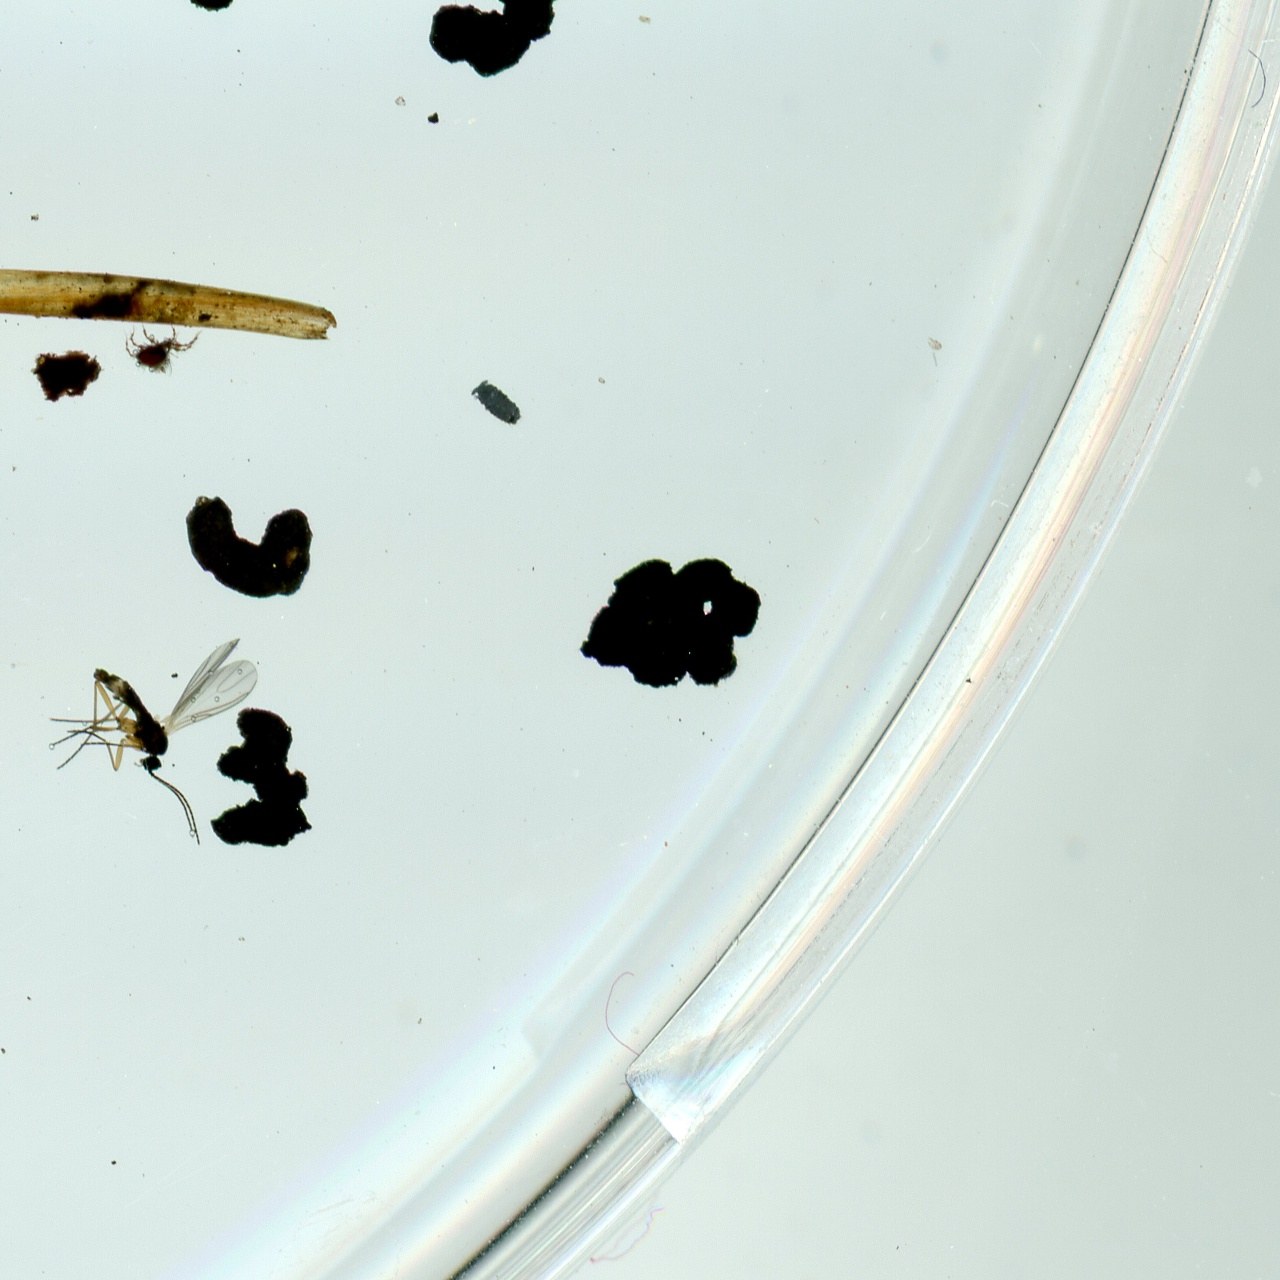arthropod: (38, 635, 266, 847), (113, 322, 204, 383), (461, 368, 536, 442)
